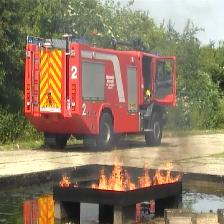fire: (92, 148, 181, 191), (60, 174, 72, 188)
